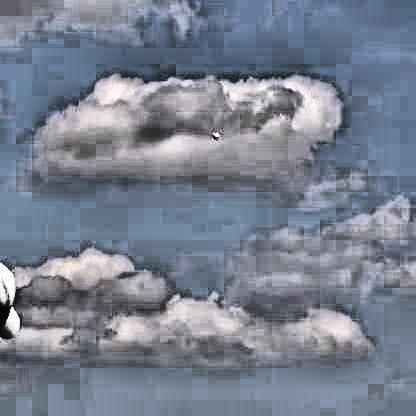golfball: (212, 132, 221, 140)
